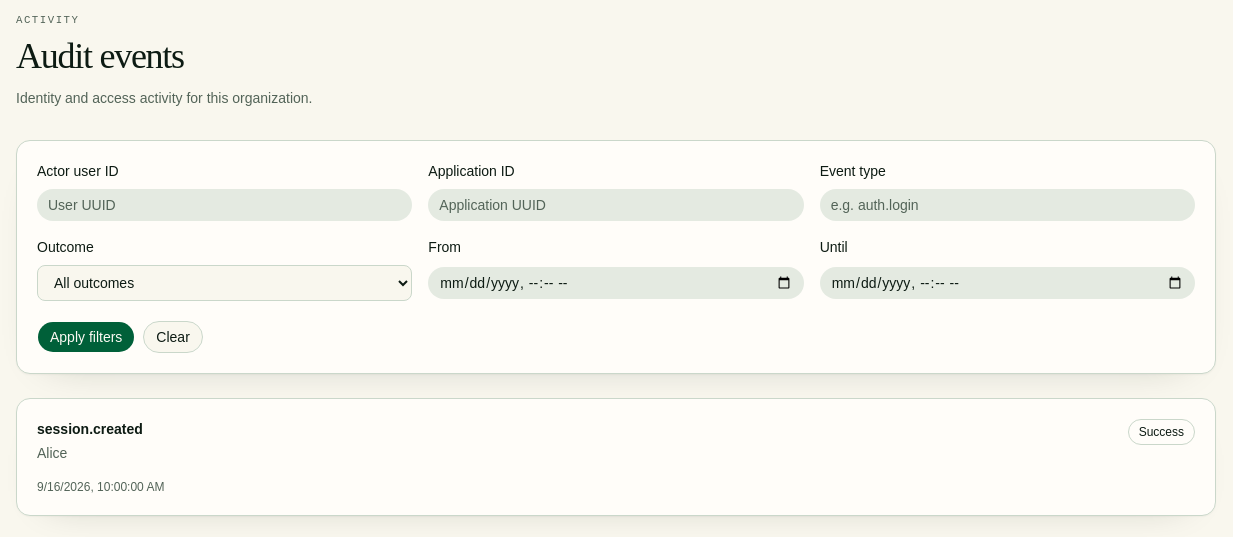
Scenario: AuditPage › applies every audit filter only after submission
Expected: the heading "session.created" is shown, x1=37 y1=419 x2=143 y2=439
In the field labelled "Actor user ID": (225, 205) x1=37 y1=189 x2=412 y2=221, type "11111111-1111-4111-8111-111111111111"
In the field labelled "Application ID": (616, 205) x1=428 y1=189 x2=804 y2=221, type "22222222-2222-4222-8222-222222222222"
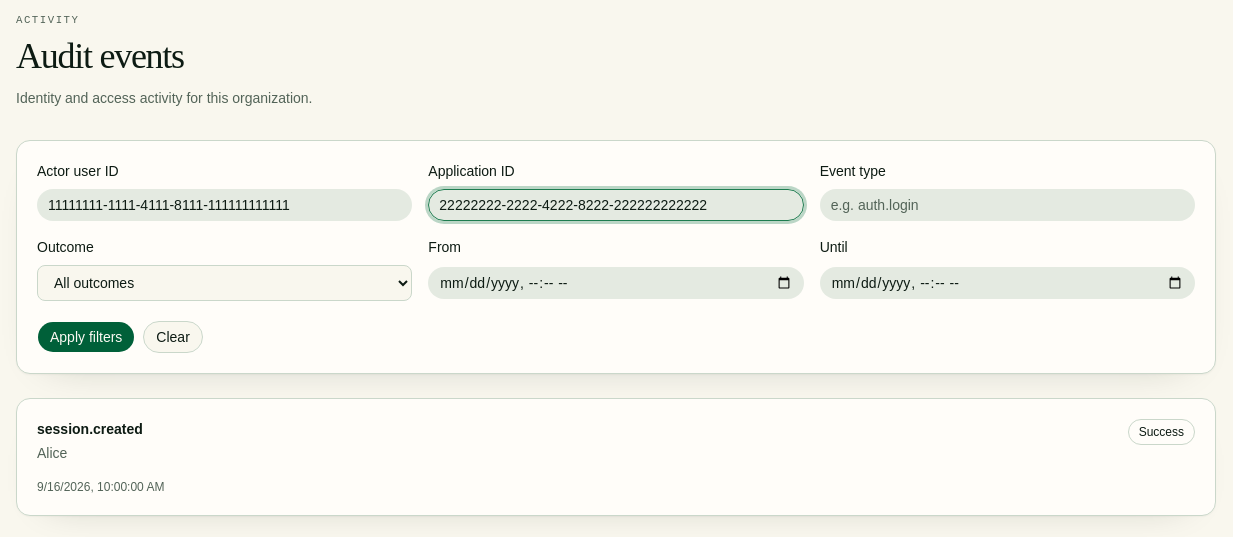
In the field labelled "Event type": (1007, 205) x1=820 y1=189 x2=1195 y2=221, type "auth.login"
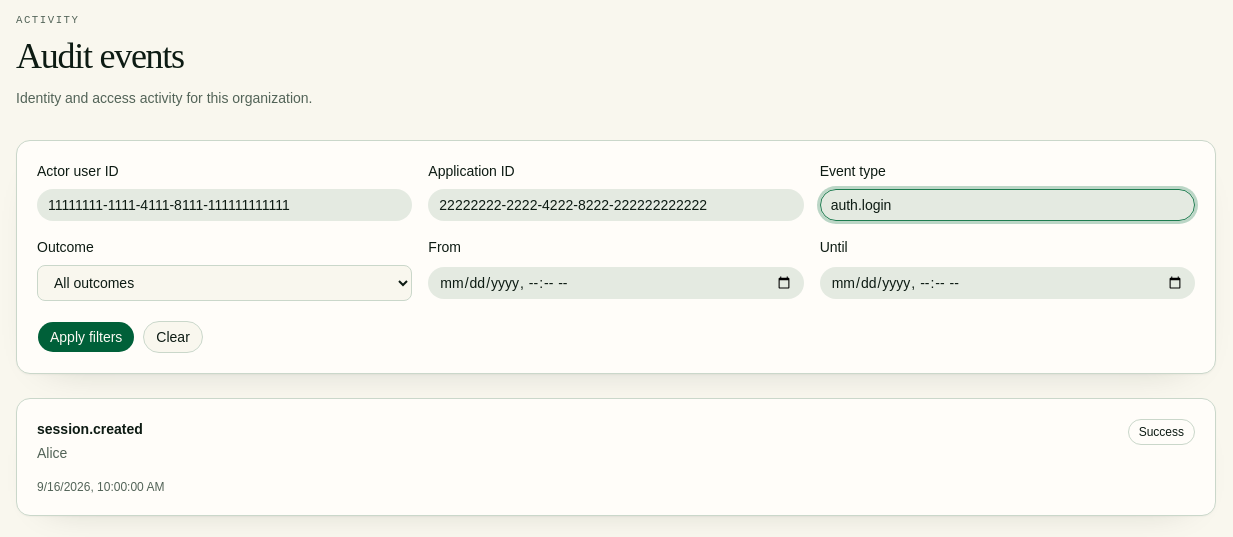
Select "Failure" in the dropdown labelled "Outcome": (225, 283) x1=37 y1=265 x2=412 y2=301
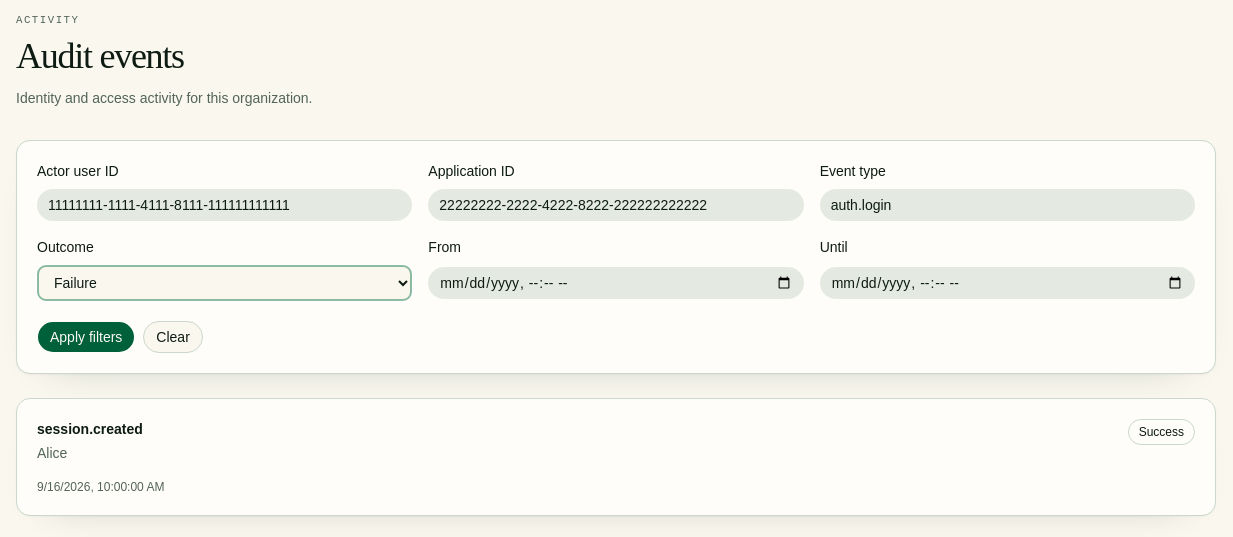
In the field labelled "From": (616, 283) x1=428 y1=267 x2=804 y2=299, type "2026-09-15T09:30"
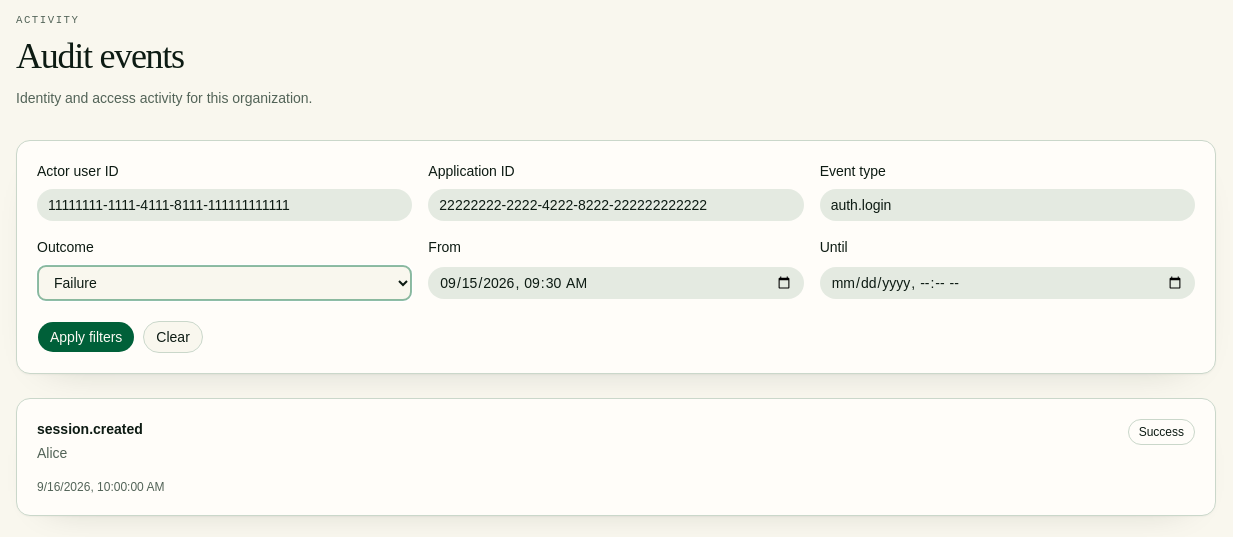
In the field labelled "Until": (1007, 283) x1=820 y1=267 x2=1195 y2=299, type "2026-09-16T17:45"
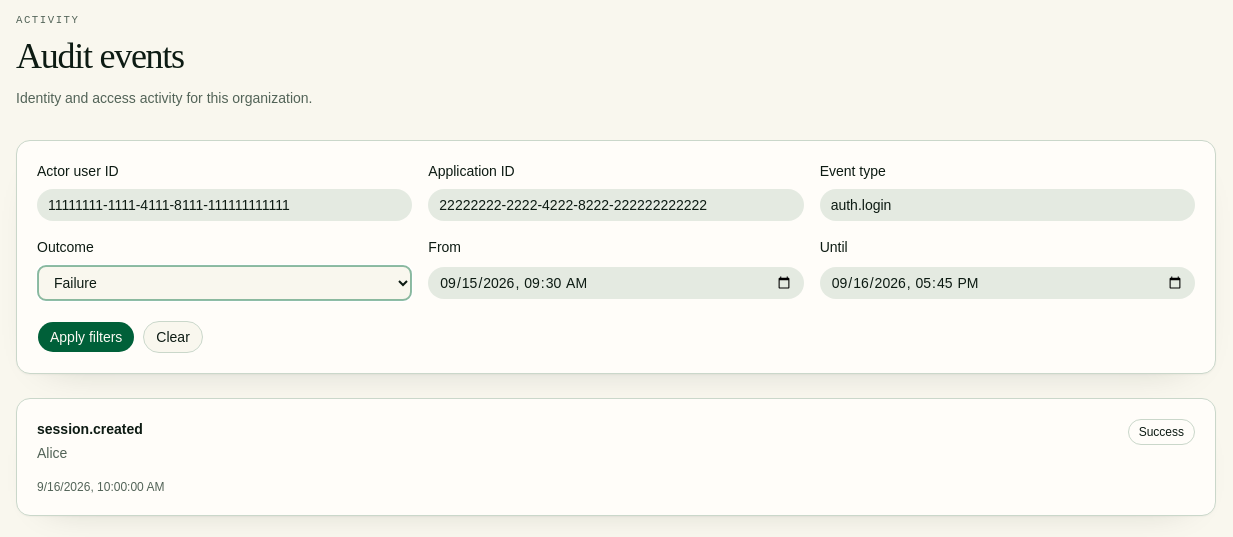
Click the button "Apply filters": (86, 337) x1=37 y1=321 x2=135 y2=353
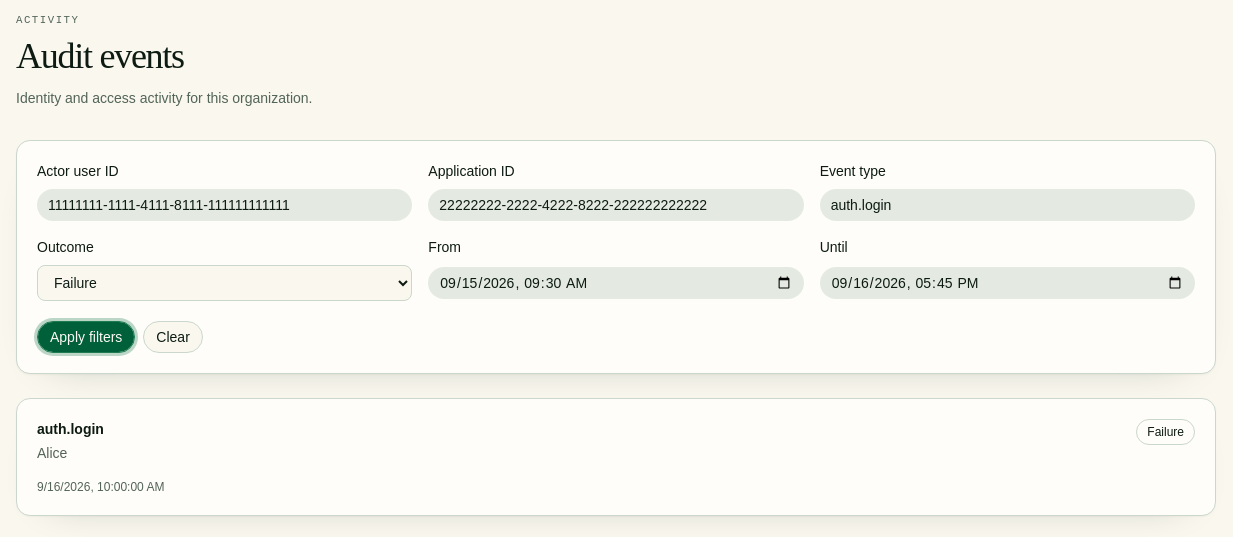
Now the heading "auth.login" is shown, box x1=37 y1=419 x2=104 y2=439
